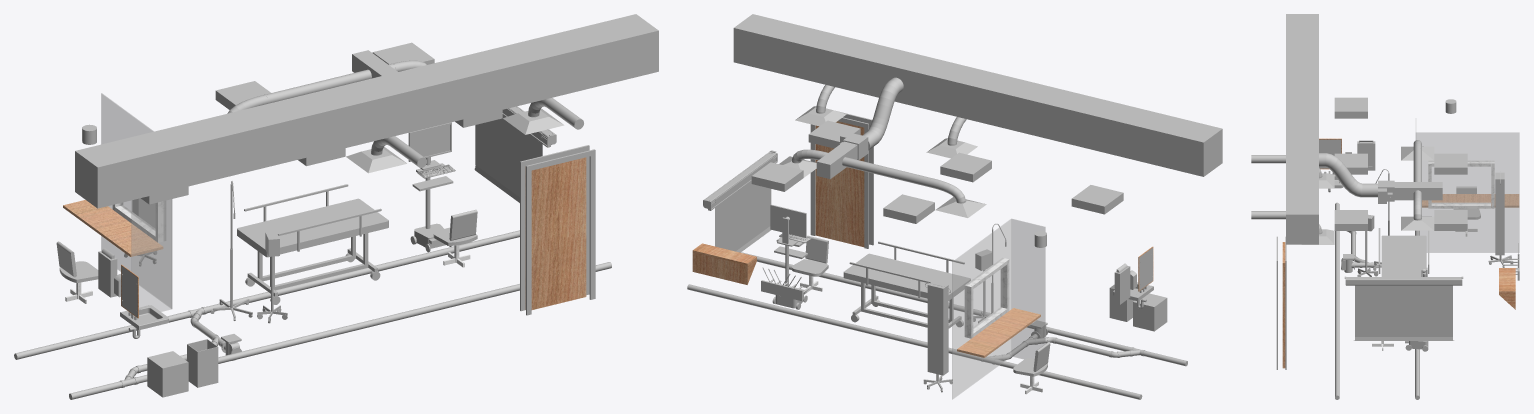
Rendered from room.dae.
The picture shows the model from 3 angles, left to right: view 1: azimuth 30°, elevation 25°; view 2: azimuth 150°, elevation 25°; view 3: azimuth 270°, elevation 25°; orthographic projection. The views are drawn at different scales.
Parts seen in each view (by area): view 1: Default (×5), 36" x 84" (×3), Glazed (×2), STRETCHER_MOBILE_CRS_9 POSITION (×3), Parametric, 20" Depth, 24 x 24 Face 12 x 12 Connection (×2), 2'x2'(2 Lamp) - 120V (×2), WASTE_BIOHAZARD, Basket_Wastepaper_Step On_Generic, COMPUTER_MICROPROCESSING_FLAT PANEL MONITOR, Chair-Desk (+1 smaller); view 2: Default (×5), Glazed (×2), 36" x 84" (×3), Parametric (×2), 2'x2'(2 Lamp) - 120V (×5), STRETCHER_MOBILE_CRS_9 POSITION (×2), SKELETON_MODEL_UPRIGHT, 20" Depth, f3230 wall mounted hat coat rack (×2), 24 x 24 Face 12 x 12 Connection (×3), Chair-Desk (×2), Flex - Round (+6 smaller); view 3: Default (×7), Glazed, Parametric (×4), 2'x2'(2 Lamp) - 120V (×5), STRETCHER_MOBILE_CRS_9 POSITION, 24 x 24 Face 12 x 12 Connection (×3), 36" x 84" (×3), SKELETON_MODEL_UPRIGHT, 20" Depth, Flex - Round, 2.5" x 5" Rectangular, f3230 wall mounted hat coat rack (+2 smaller).
Boxes of the visible parts, x1=… form: Default (×5): x1=14, y1=14, x2=658, y2=383; 36" x 84" (×3): x1=520, y1=145, x2=595, y2=315; Glazed (×2): x1=101, y1=93, x2=172, y2=311; STRETCHER_MOBILE_CRS_9 POSITION (×3): x1=237, y1=198, x2=388, y2=290; Parametric: x1=475, y1=115, x2=542, y2=196; 20" Depth: x1=63, y1=200, x2=163, y2=256; 24 x 24 Face 12 x 12 Connection (×2): x1=346, y1=108, x2=564, y2=173; 2'x2'(2 Lamp) - 120V (×2): x1=215, y1=42, x2=434, y2=105; WASTE_BIOHAZARD: x1=187, y1=339, x2=218, y2=387; Basket_Wastepaper_Step On_Generic: x1=147, y1=359, x2=188, y2=397; COMPUTER_MICROPROCESSING_FLAT PANEL MONITOR: x1=408, y1=122, x2=451, y2=161; Chair-Desk: x1=449, y1=209, x2=477, y2=240; Default (×5): x1=687, y1=14, x2=1222, y2=399; Glazed (×2): x1=952, y1=219, x2=1045, y2=399; 36" x 84" (×3): x1=810, y1=110, x2=873, y2=248; Parametric (×2): x1=705, y1=151, x2=777, y2=251; 2'x2'(2 Lamp) - 120V (×5): x1=751, y1=120, x2=1123, y2=217; STRETCHER_MOBILE_CRS_9 POSITION (×2): x1=843, y1=253, x2=970, y2=322; SKELETON_MODEL_UPRIGHT: x1=927, y1=281, x2=948, y2=375; 20" Depth: x1=957, y1=308, x2=1040, y2=357; f3230 wall mounted hat coat rack (×2): x1=692, y1=243, x2=756, y2=284; 24 x 24 Face 12 x 12 Connection (×3): x1=795, y1=106, x2=986, y2=217; Chair-Desk (×2): x1=791, y1=235, x2=828, y2=276; Flex - Round: x1=867, y1=80, x2=900, y2=143; Default (×7): x1=1251, y1=14, x2=1442, y2=399; Glazed: x1=1416, y1=132, x2=1519, y2=252; Parametric (×4): x1=1346, y1=277, x2=1461, y2=340; 2'x2'(2 Lamp) - 120V (×5): x1=1334, y1=97, x2=1467, y2=224; STRETCHER_MOBILE_CRS_9 POSITION: x1=1381, y1=235, x2=1426, y2=276; 24 x 24 Face 12 x 12 Connection (×3): x1=1302, y1=146, x2=1434, y2=244; 36" x 84" (×3): x1=1276, y1=236, x2=1286, y2=369; SKELETON_MODEL_UPRIGHT: x1=1495, y1=172, x2=1504, y2=255; 20" Depth: x1=1422, y1=194, x2=1519, y2=207; Flex - Round: x1=1324, y1=153, x2=1362, y2=197; 2.5" x 5" Rectangular: x1=1431, y1=202, x2=1490, y2=208; f3230 wall mounted hat coat rack: x1=1499, y1=268, x2=1515, y2=292.
Bounding box in the file's own units: 8.71 × 4.92 × 3.94.
43 materials, 7 textured.
